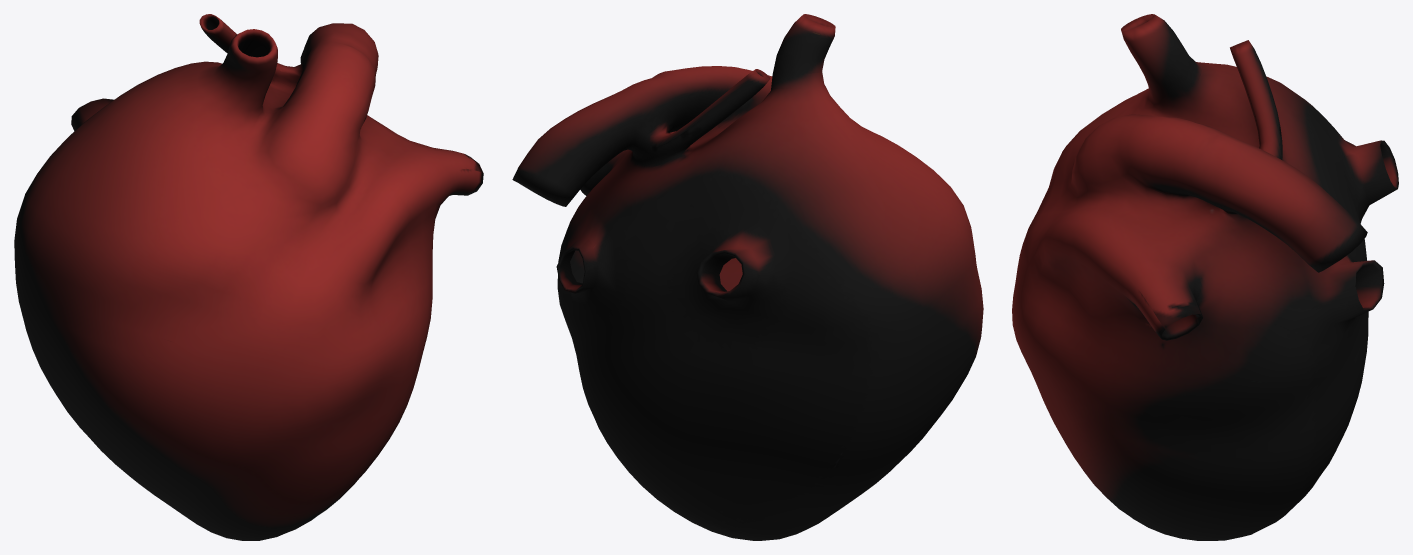
Rendered from BlackHeart.fbx.
The picture shows the model from 3 angles, left to right: view 1: azimuth 30°, elevation 25°; view 2: azimuth 150°, elevation 25°; view 3: azimuth 270°, elevation 25°; orthographic projection. The views are drawn at different scales.
Parts seen in each view (by area): view 1: heart; view 2: heart; view 3: heart.
Part boxes in pixels (left/top/right/bottom): heart: left=14, top=14, right=483, bottom=540; heart: left=512, top=14, right=983, bottom=540; heart: left=1012, top=14, right=1398, bottom=540.
Bounding box in the file's own units: 502 × 604 × 419.
